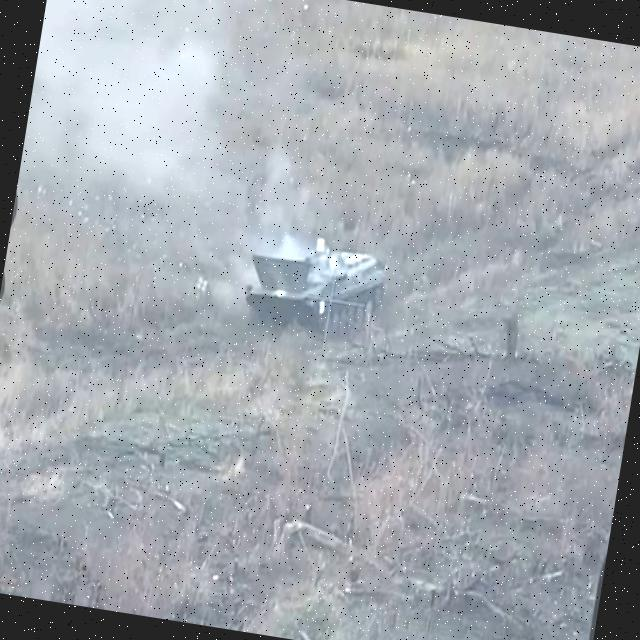AIFV: (242, 231, 397, 342)
